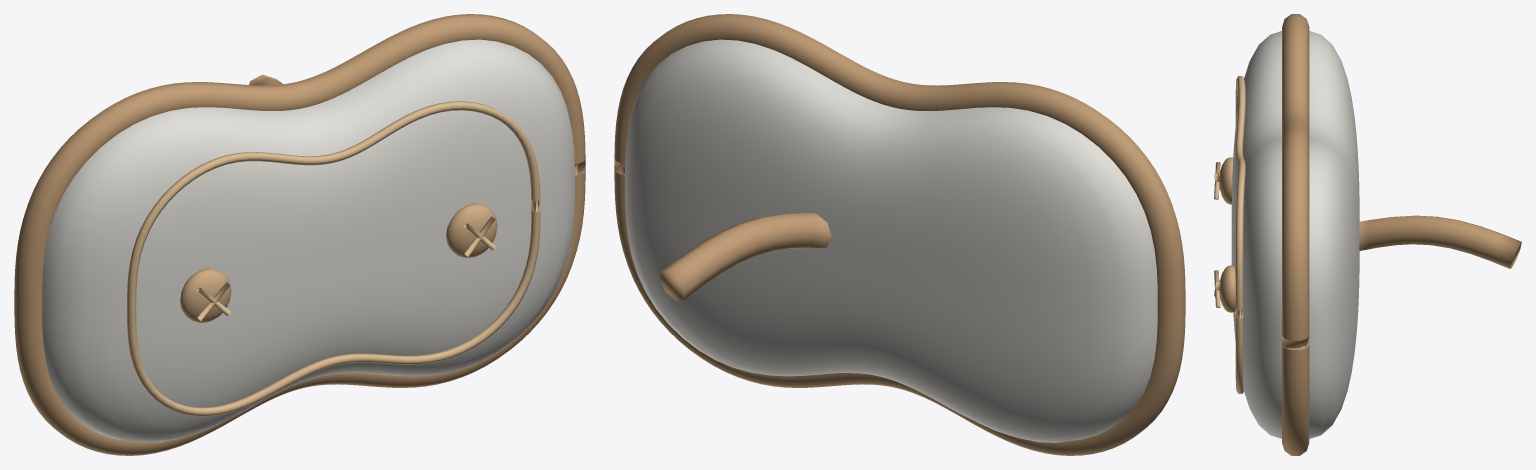
File: PillowShield.fbx
3 renders of one model, left to right at view 1: azimuth 30°, elevation 25°; view 2: azimuth 150°, elevation 25°; view 3: azimuth 270°, elevation 25°, orthographic. The views are drawn at different scales.
Parts seen in each view (by area): view 1: PillowShield; view 2: PillowShield; view 3: PillowShield.
Boxes of the visible parts, x1=… form: PillowShield: x1=14, y1=14, x2=585, y2=455; PillowShield: x1=614, y1=14, x2=1185, y2=455; PillowShield: x1=1214, y1=14, x2=1521, y2=455.
Bounding box in the file's own units: 0.6384 × 0.3893 × 0.3607.
